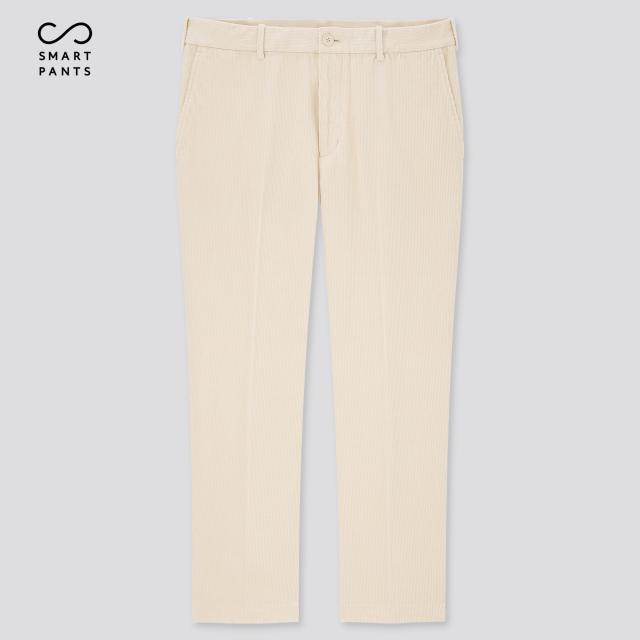long-pants: (175, 18, 467, 632)
